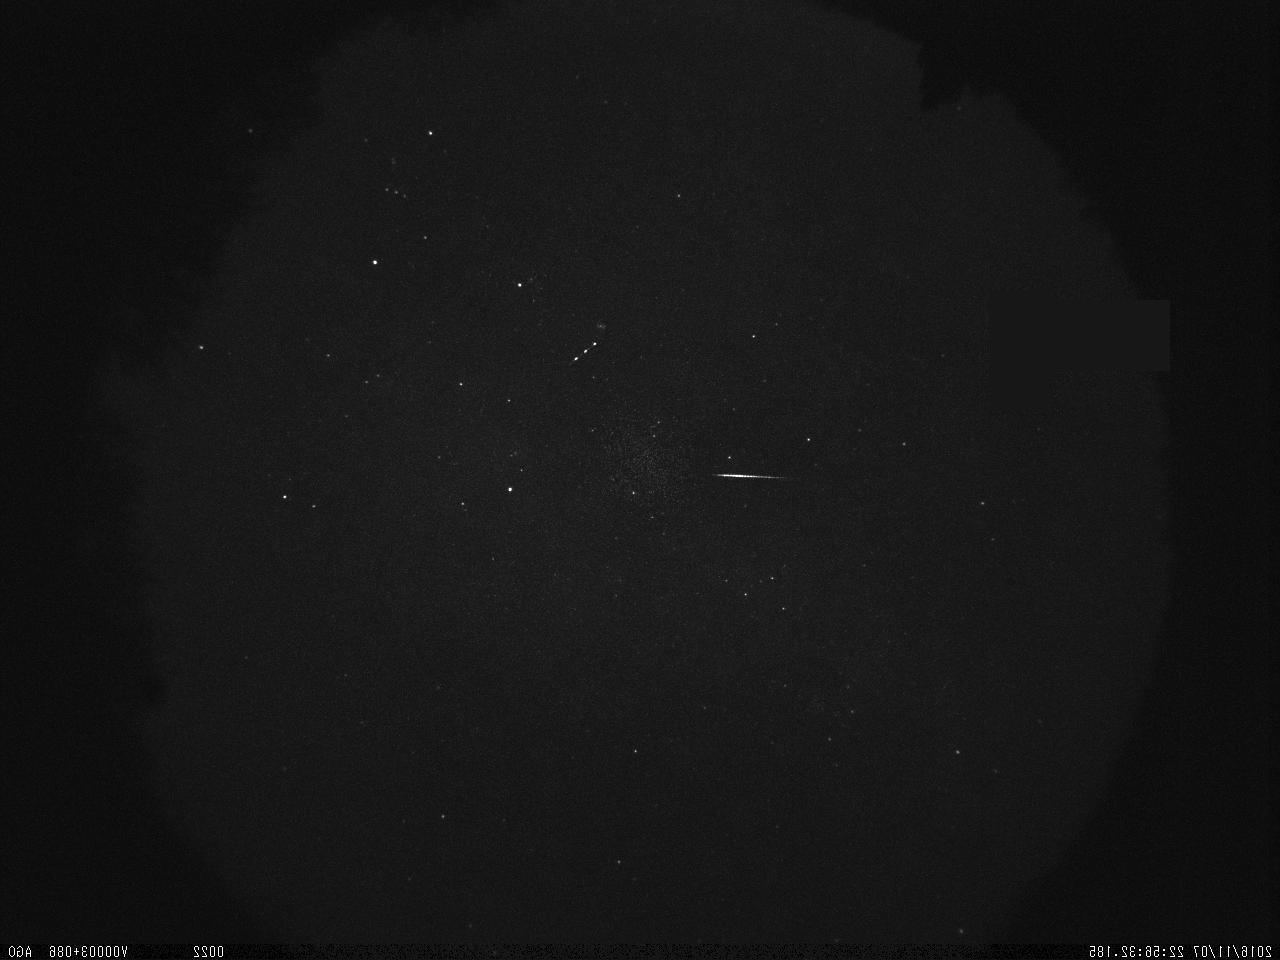meteor: (690, 451, 815, 496)
